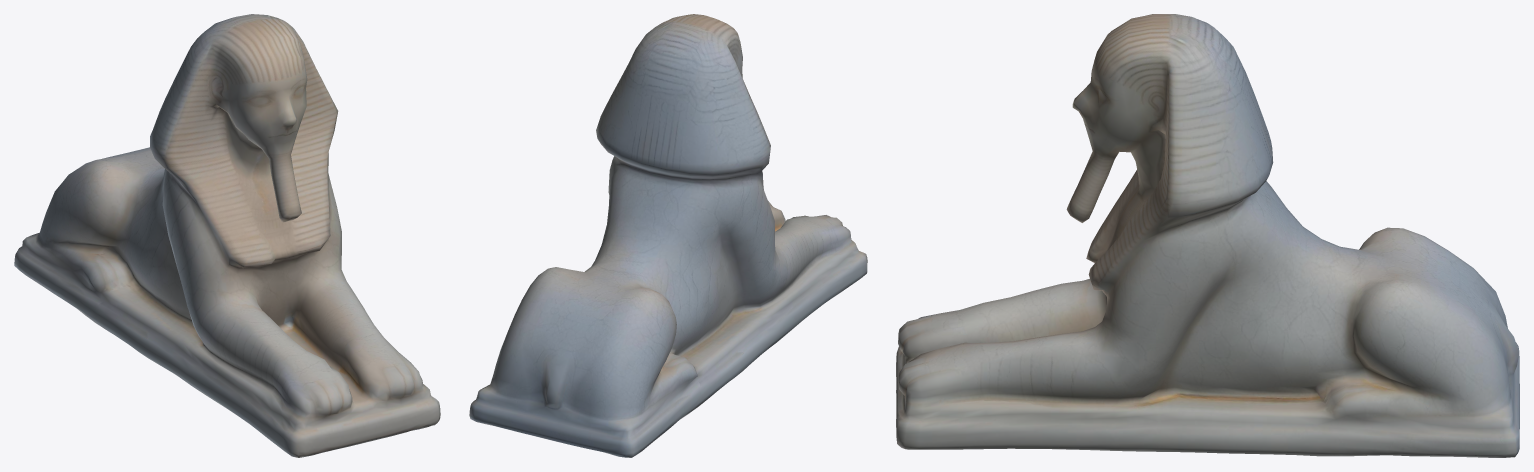
The model's file is sphix.fbx.
3 views of the same model, side by side, from view 1: azimuth 30°, elevation 25°; view 2: azimuth 150°, elevation 25°; view 3: azimuth 270°, elevation 25° (orthographic). The views are drawn at different scales.
Visible parts, largest first — view 1: tripo_node_c64edd62-d807-4926-a89f-35fac2e50284; view 2: tripo_node_c64edd62-d807-4926-a89f-35fac2e50284; view 3: tripo_node_c64edd62-d807-4926-a89f-35fac2e50284.
Part boxes in pixels (box(x1,y1,x2,y2)): tripo_node_c64edd62-d807-4926-a89f-35fac2e50284: box(14, 14, 440, 457); tripo_node_c64edd62-d807-4926-a89f-35fac2e50284: box(469, 14, 867, 457); tripo_node_c64edd62-d807-4926-a89f-35fac2e50284: box(896, 14, 1519, 457).
Bounding box in the file's own units: 107 × 195 × 284.
Materials: 1 (1 with a texture image).
